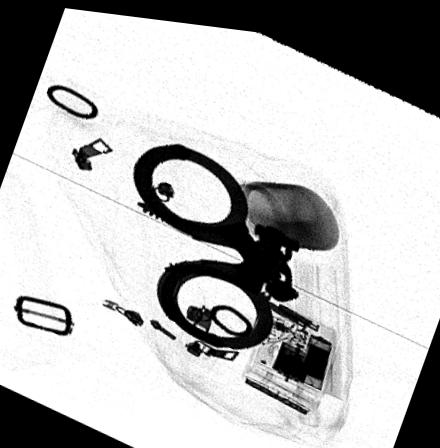HandCuffs: (132, 139, 300, 346)
